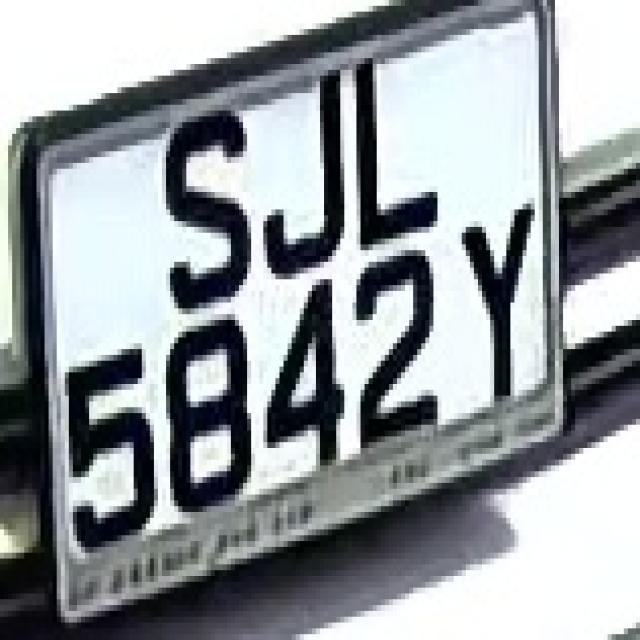2: (344, 233, 446, 465)
4: (247, 268, 352, 506)
5: (49, 332, 162, 535)
8: (162, 302, 259, 518)
J: (239, 58, 356, 274)
L: (340, 29, 438, 244)
S: (150, 87, 255, 303)
Y: (446, 198, 538, 419)
